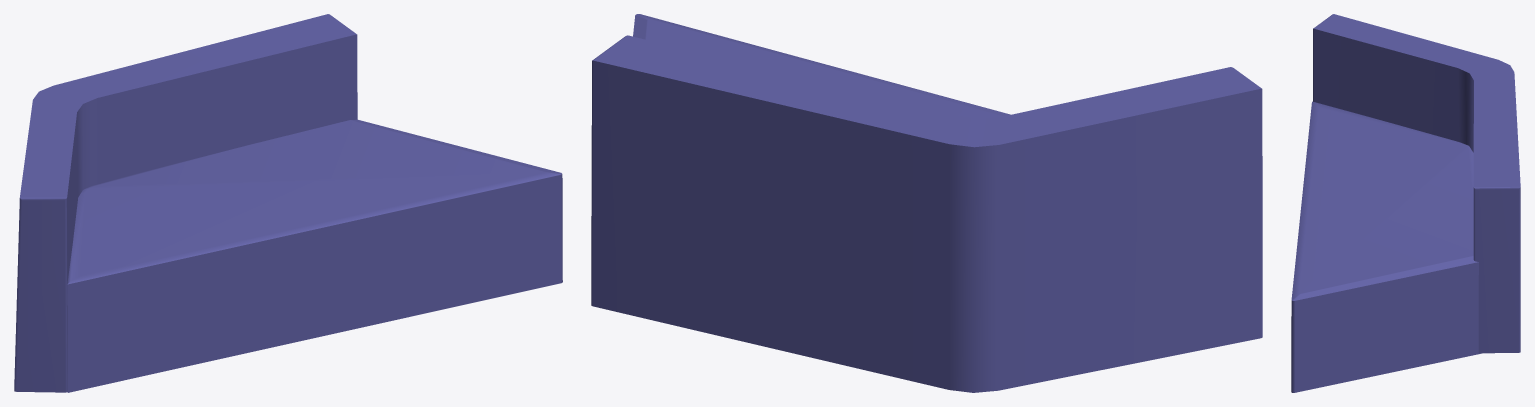
The model's file is canap_tri_SM.fbx.
The picture shows the model from 3 angles, left to right: view 1: azimuth 30°, elevation 25°; view 2: azimuth 150°, elevation 25°; view 3: azimuth 270°, elevation 25°; orthographic projection. The views are drawn at different scales.
Visible parts, largest first — view 1: canap_tri; view 2: canap_tri; view 3: canap_tri.
Part boxes in pixels (x1,y1,x2,y2): canap_tri: (14,14,562,392); canap_tri: (591,14,1262,392); canap_tri: (1291,14,1520,392).
Size of the model in its own units: 281 by 102 by 126.
